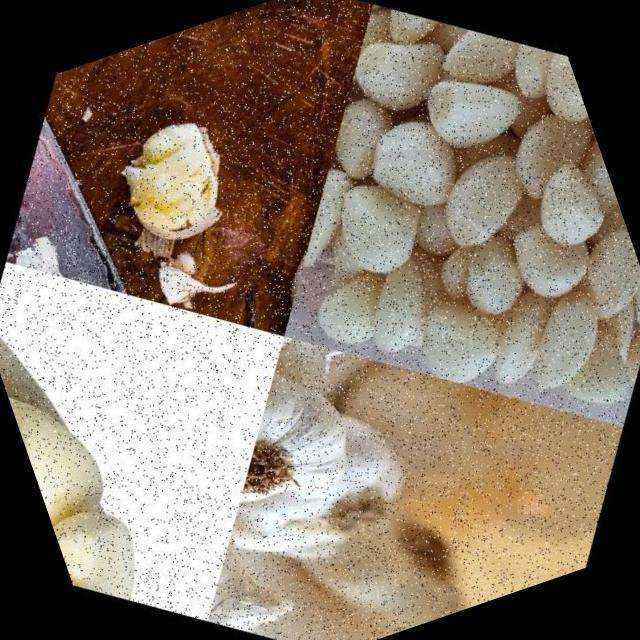garlic: (191, 0, 640, 521), (0, 277, 250, 619), (184, 343, 413, 584)
